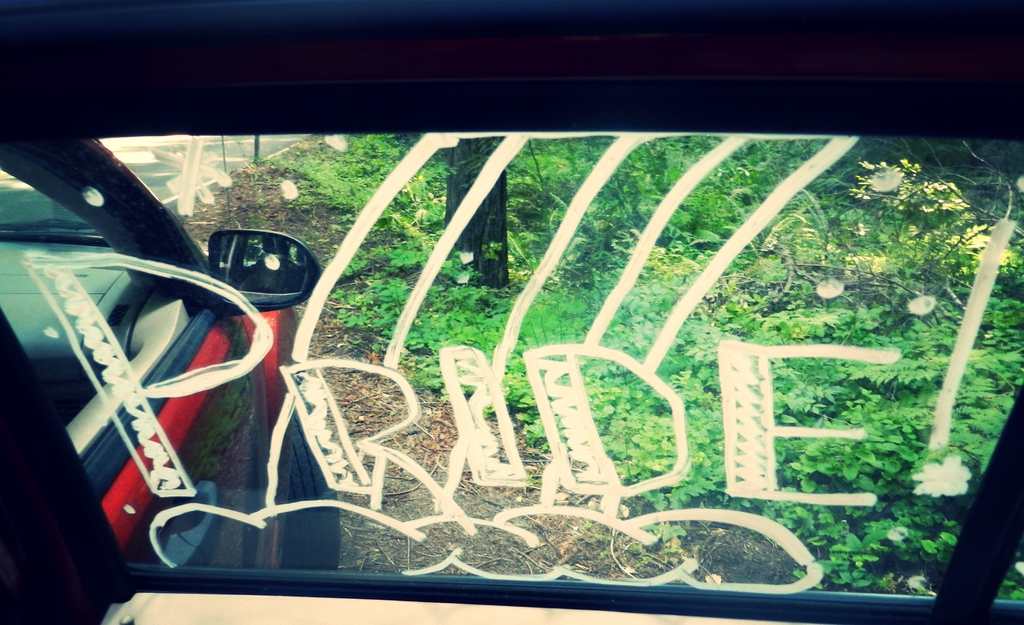Car: (0, 0, 1023, 624), (0, 138, 342, 574)
